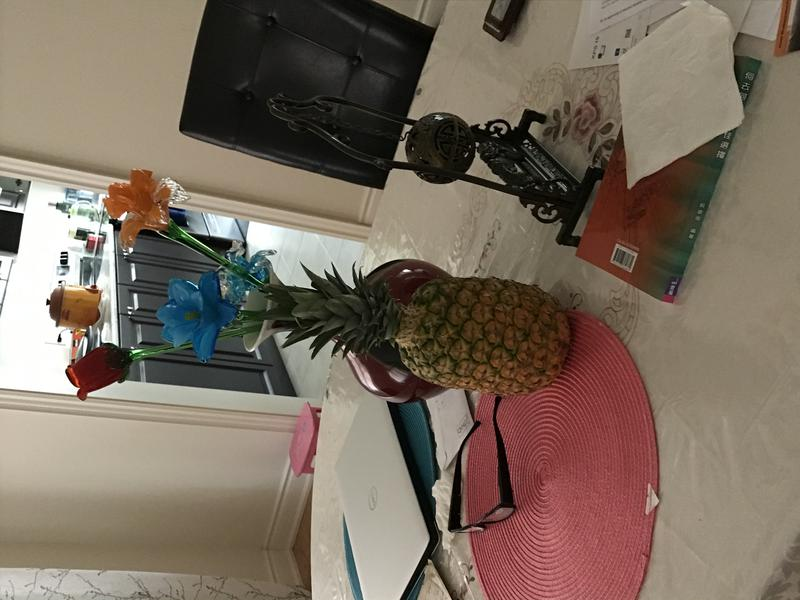pineapple: (276, 254, 576, 402)
